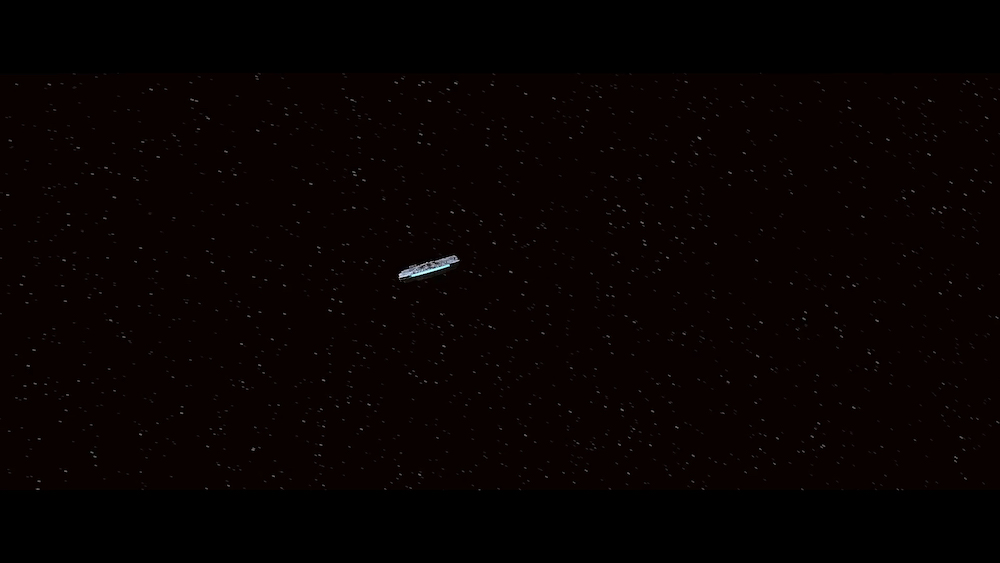Millennium Falcon: (399, 256, 461, 284)
